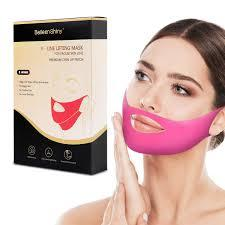Wore Mask Incorrectly: (120, 18, 225, 160)
